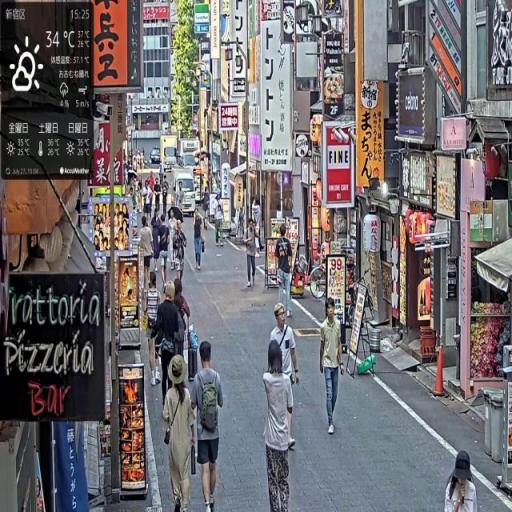person: (191, 340, 227, 512), (262, 344, 297, 512), (163, 355, 198, 512), (151, 281, 186, 412), (270, 303, 301, 446), (320, 299, 346, 437), (275, 223, 296, 323), (244, 216, 261, 292), (157, 215, 172, 292), (192, 207, 207, 272)
